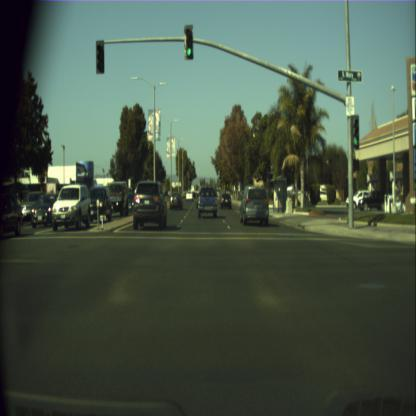Green: (184, 26, 194, 58), (351, 114, 359, 148)
off: (96, 41, 104, 73)
